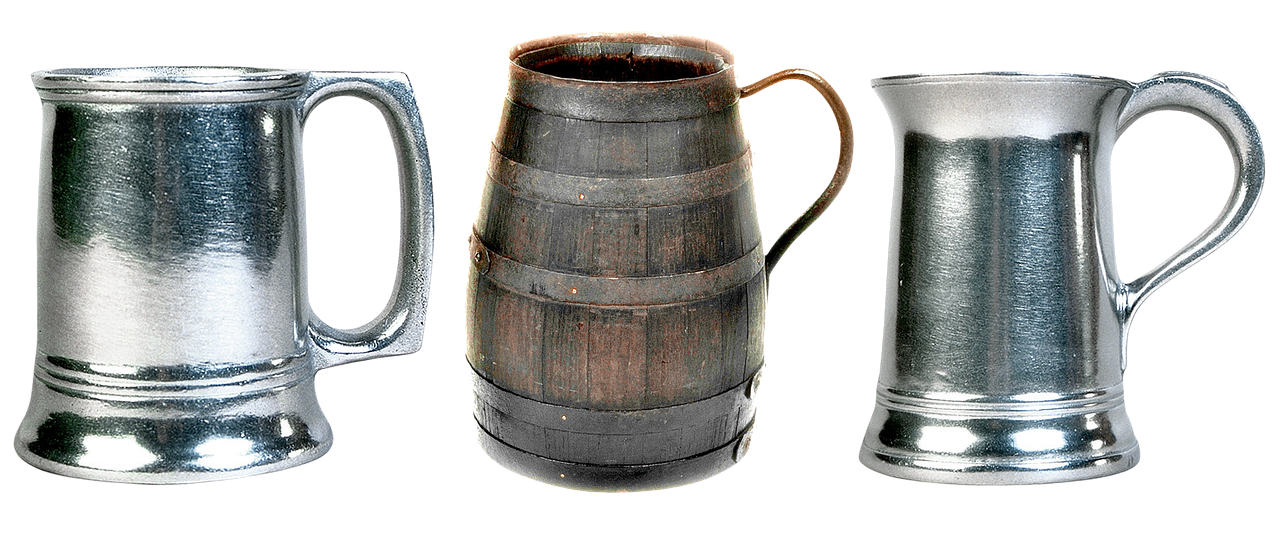mug: (428, 25, 869, 537), (24, 26, 440, 537), (869, 1, 1257, 534)
